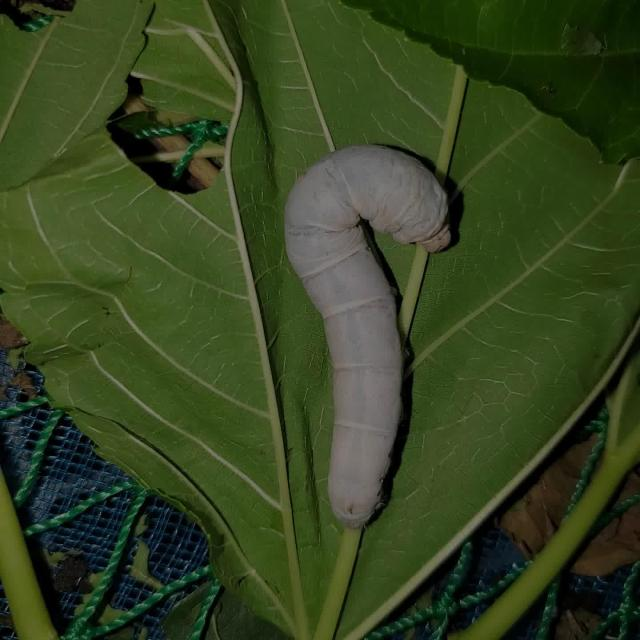Healthy: (258, 120, 489, 558)
